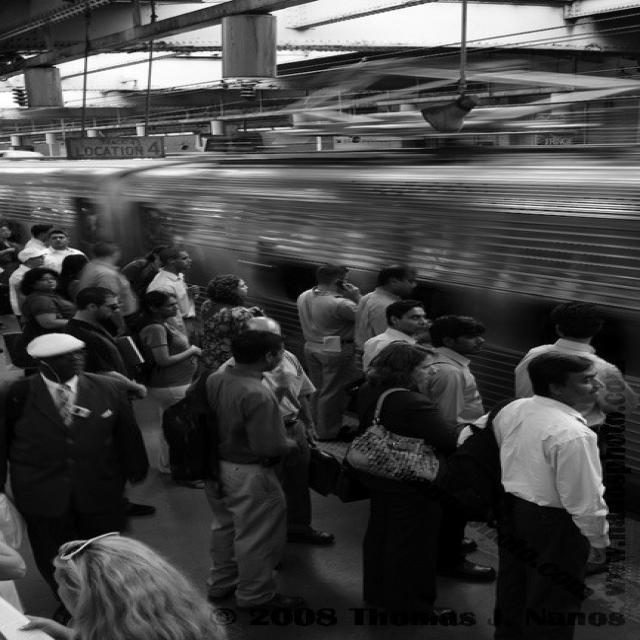body: (0, 205, 266, 639), (0, 330, 155, 628), (455, 349, 612, 640), (158, 328, 309, 616), (331, 339, 472, 639), (196, 313, 342, 564), (408, 314, 501, 584), (60, 285, 156, 516), (511, 297, 640, 429), (121, 288, 207, 478), (294, 263, 365, 444), (351, 261, 422, 381), (189, 273, 262, 376), (18, 266, 78, 379), (74, 240, 143, 326), (356, 298, 430, 378), (146, 245, 202, 347), (6, 247, 49, 331), (33, 229, 86, 273)
